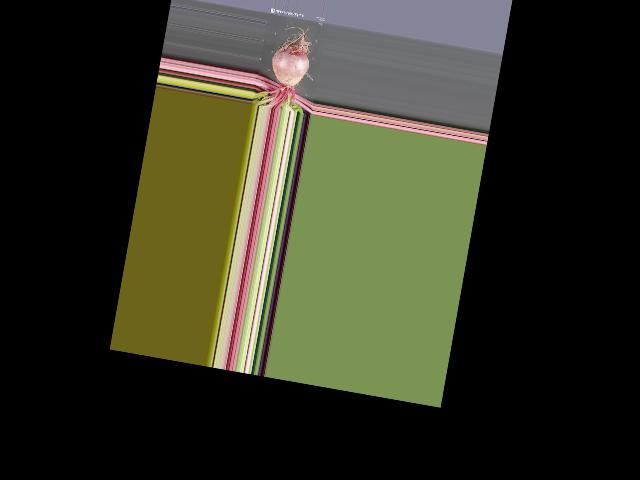beet: (251, 18, 316, 113)
